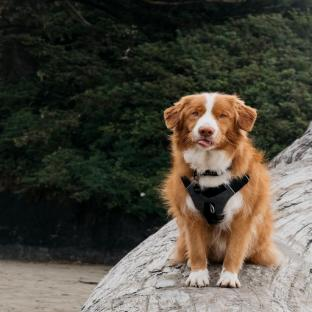Animal: (163, 92, 282, 287)
